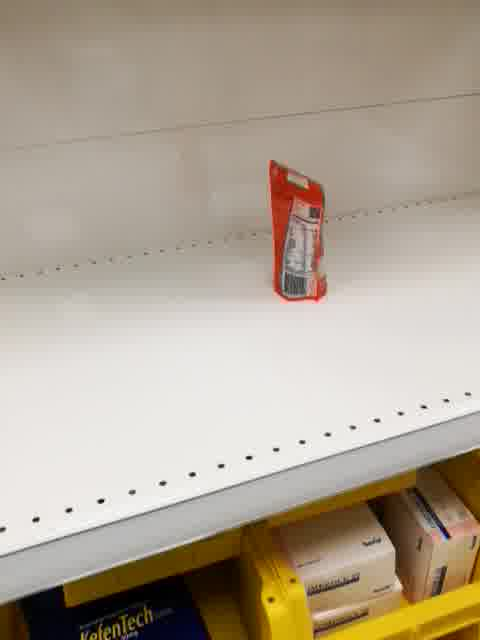whitechia: (267, 156, 330, 305)
